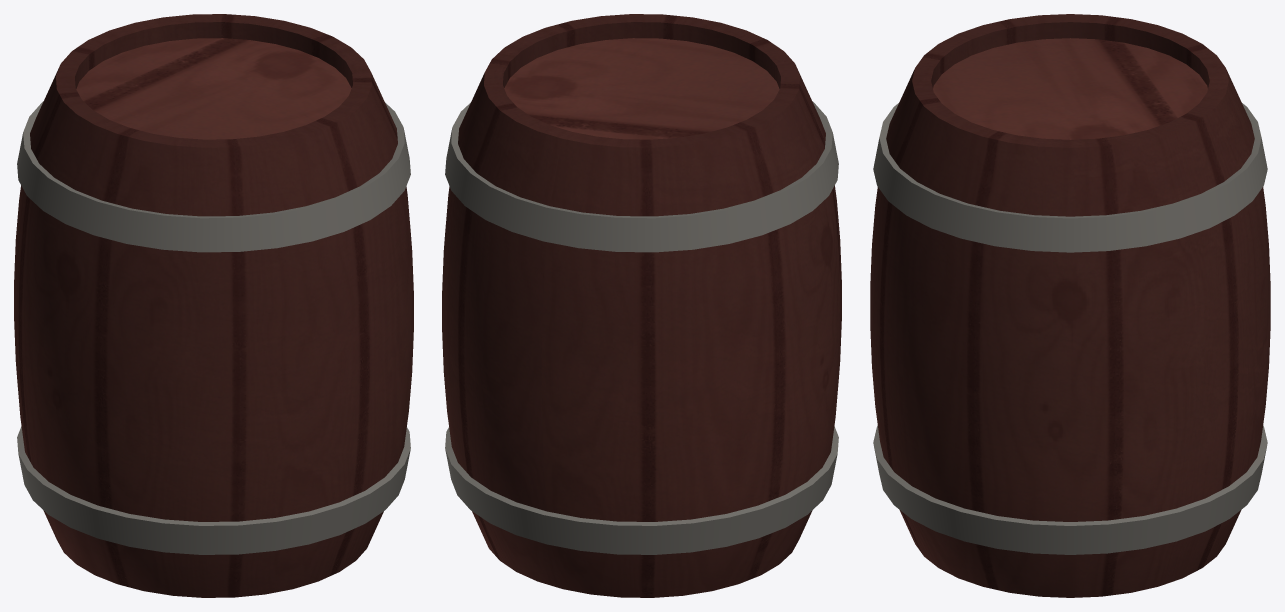
File: barrel.fbx
The picture shows the model from 3 angles, left to right: view 1: azimuth 30°, elevation 25°; view 2: azimuth 150°, elevation 25°; view 3: azimuth 270°, elevation 25°; orthographic projection.
Parts seen in each view (by area): view 1: Iron_Rings_Cylinder.001; view 2: Iron_Rings_Cylinder.001; view 3: Iron_Rings_Cylinder.001.
Boxes of the visible parts, x1,y1,x2,y2 form: Iron_Rings_Cylinder.001: (14, 14, 413, 597); Iron_Rings_Cylinder.001: (442, 14, 841, 597); Iron_Rings_Cylinder.001: (870, 14, 1270, 597).
Bounding box in the file's own units: 381 × 472 × 381.
2 materials, 1 textured.
